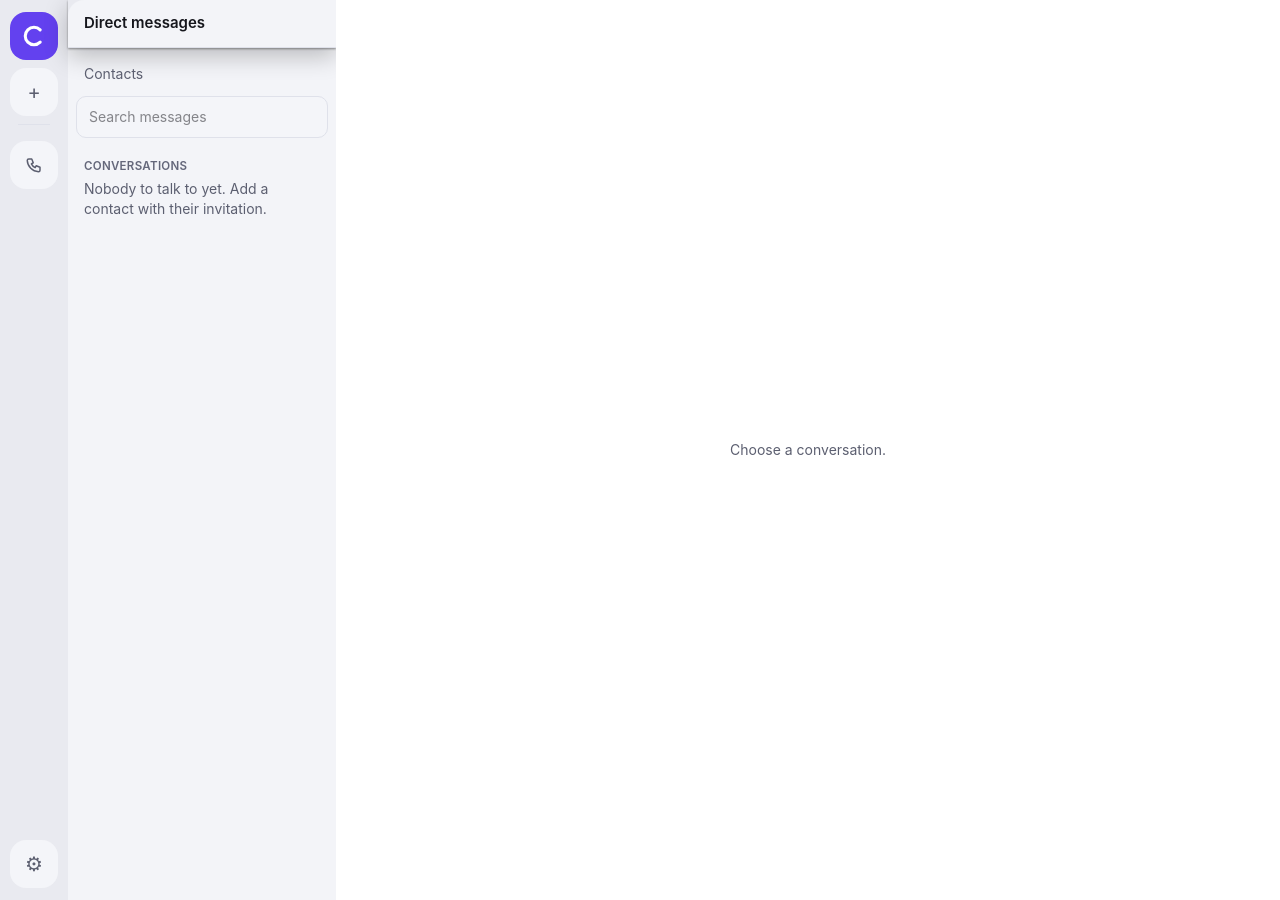
a person with an identity sees it
The image size is (1280, 900).
Click the button named "Settings".
click(34, 864)  # box [10,840,58,888]
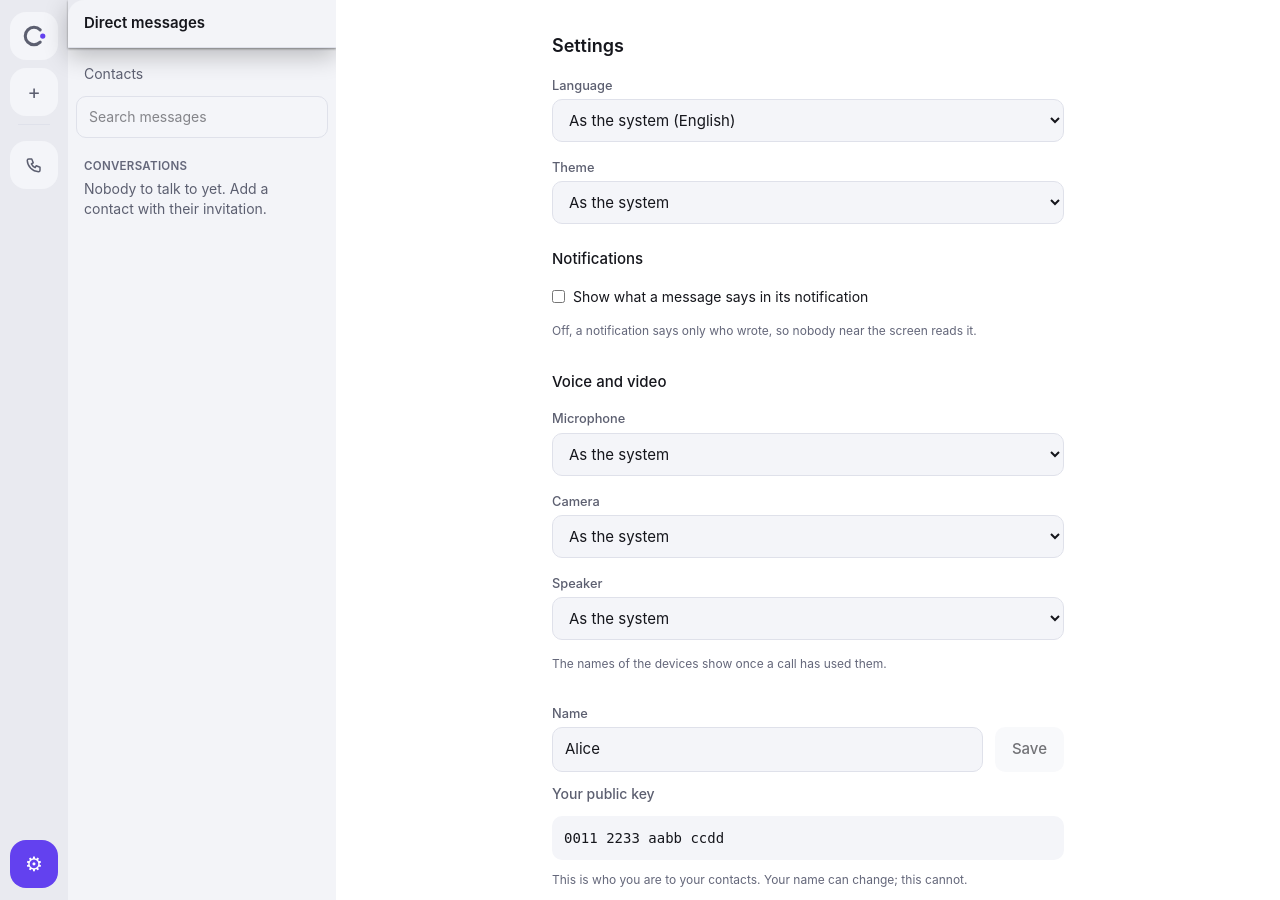
Now the text "0011 2233 aabb ccdd" is shown, box [552,816,1064,860]
